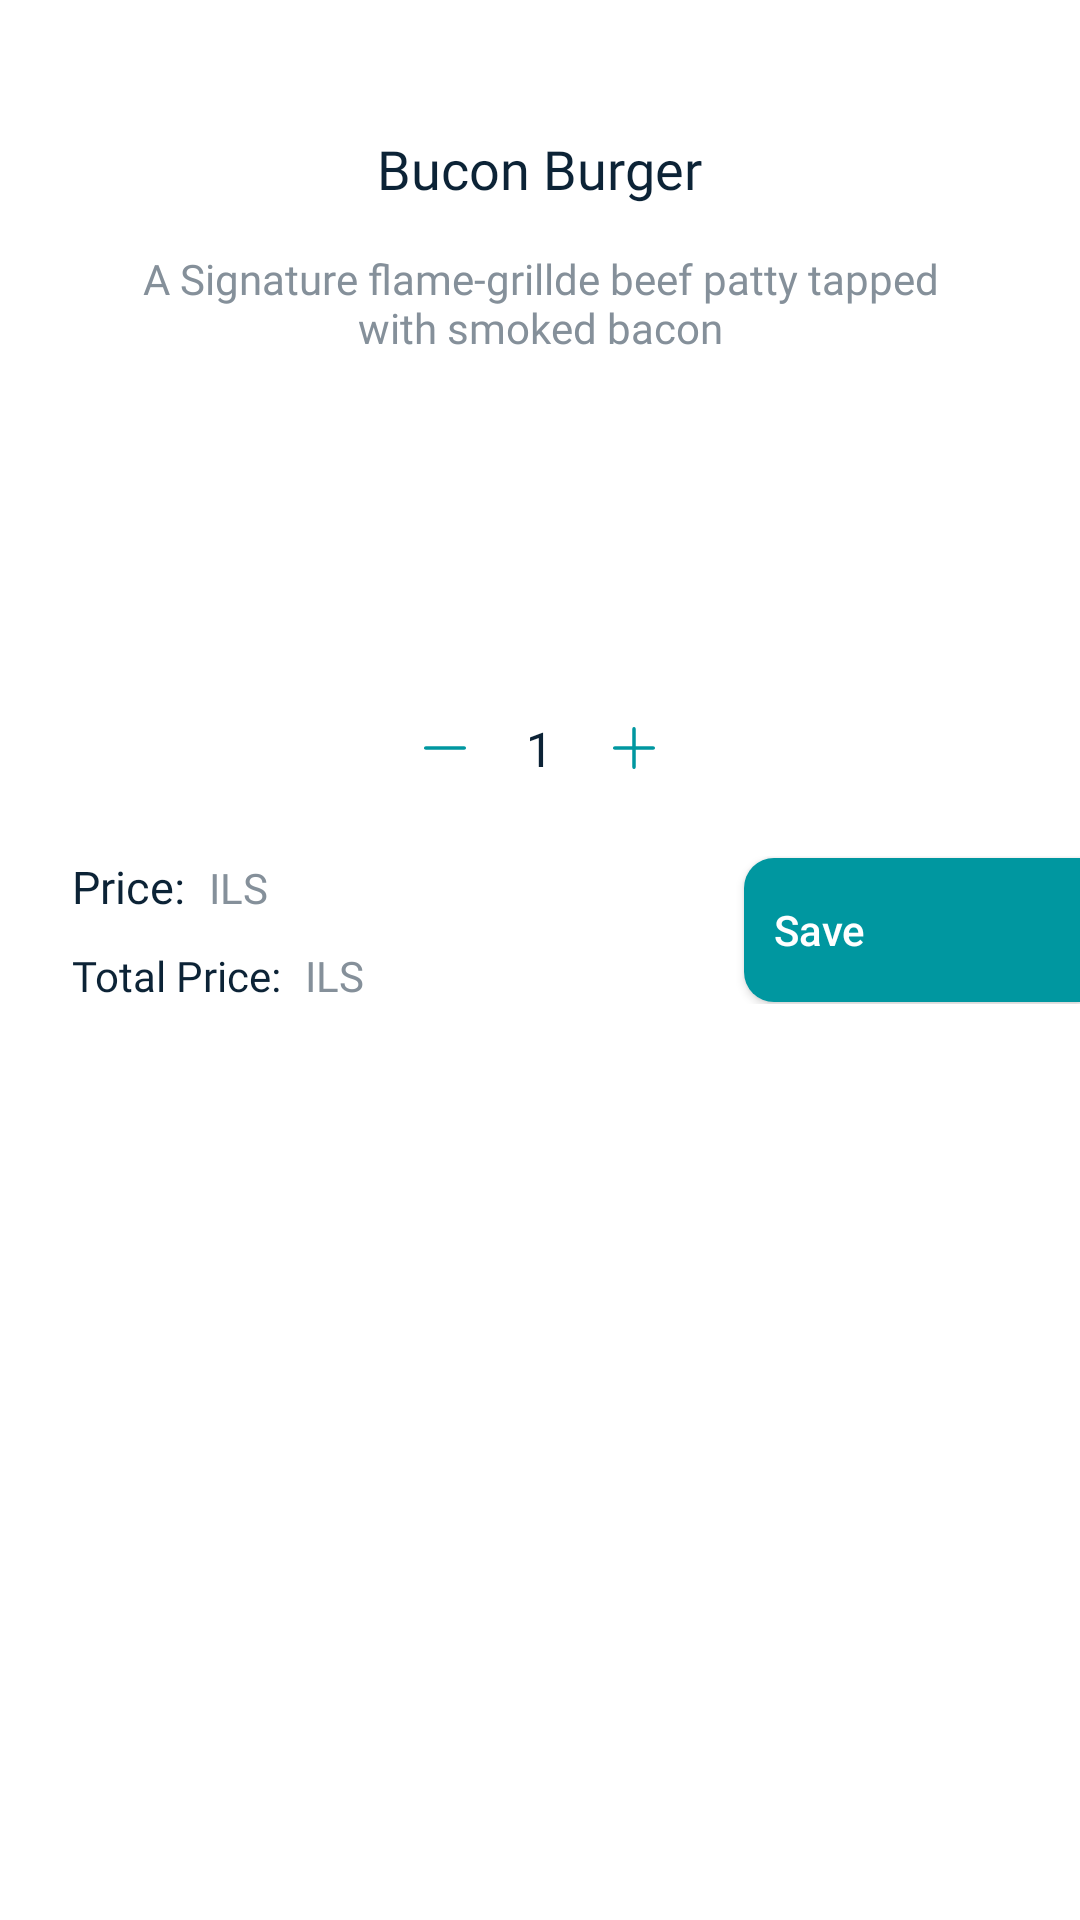

Screen size 1080px×1920px. Icon name, then its box in pixels as (x1, y1, x2, y2):
plus: (613, 727, 655, 769)
